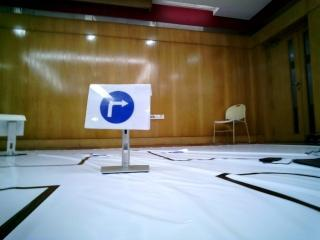right: (92, 85, 155, 131)
